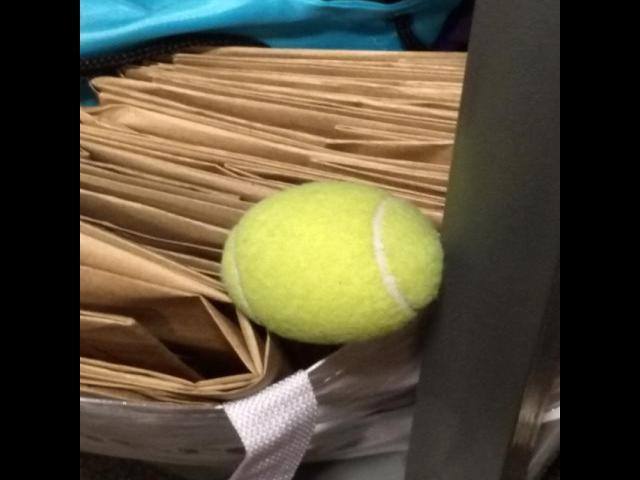tennis-ball: (218, 178, 448, 347)
